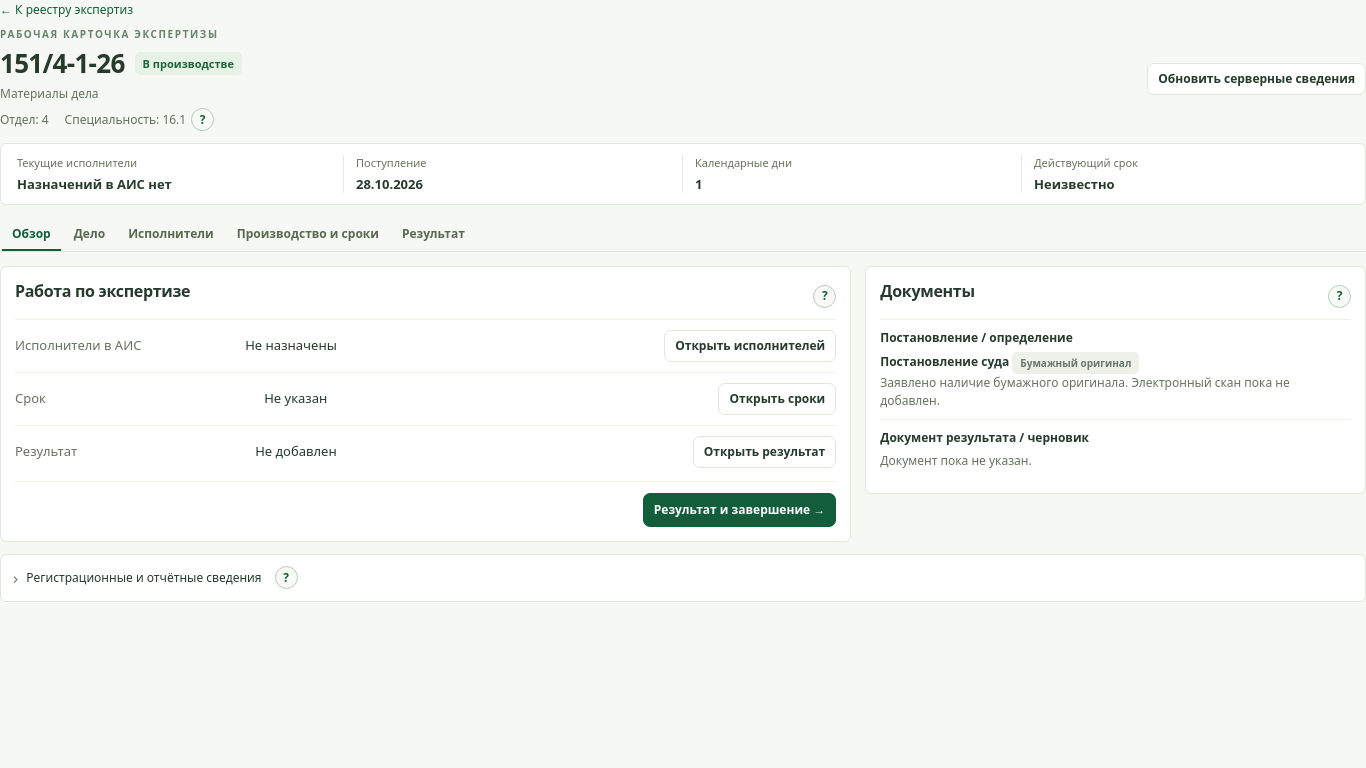
Test: keeps factual fields visible and moves their reference explanation behind a question
Click the tab "Дело".
click(89, 235)  # box [64,219,115,251]
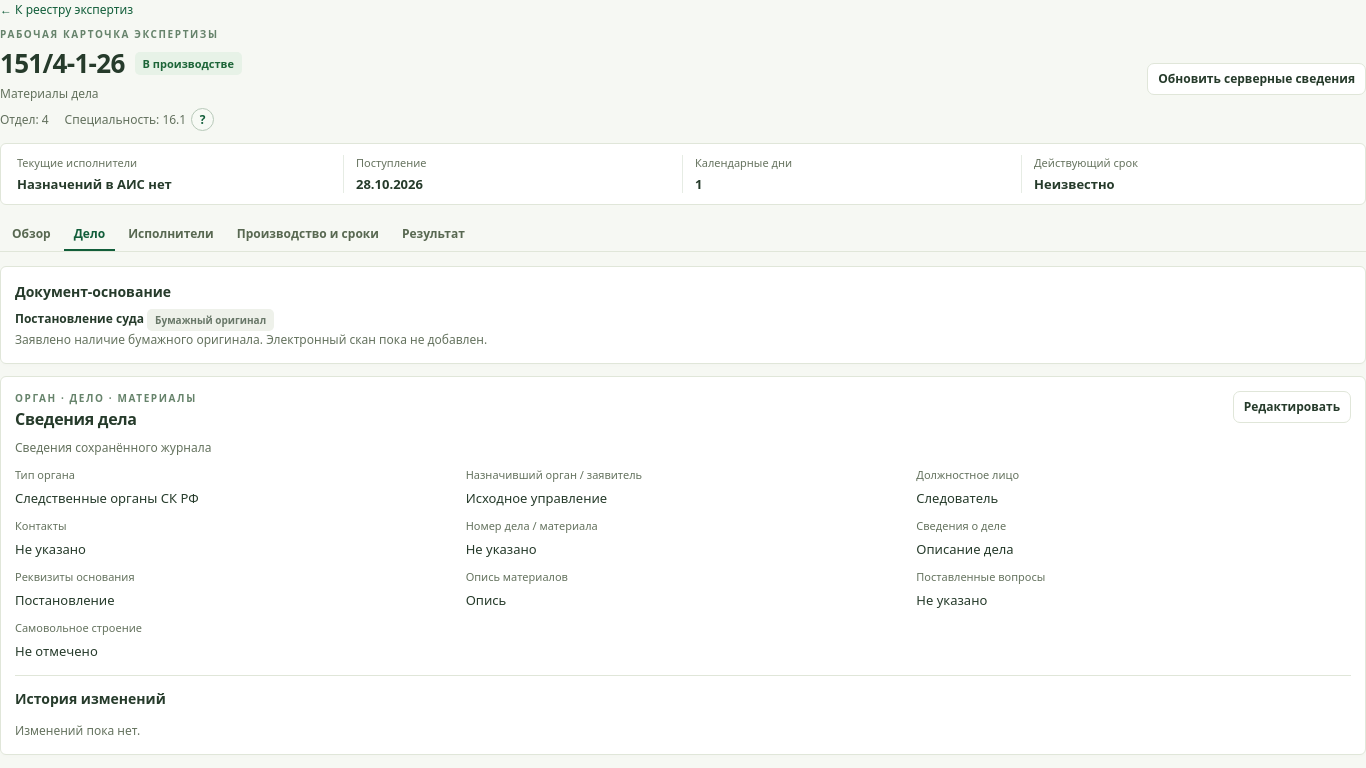
Click the button "Редактировать".
click(1292, 407)  # box [1233,391,1351,423]
(page scrolled)
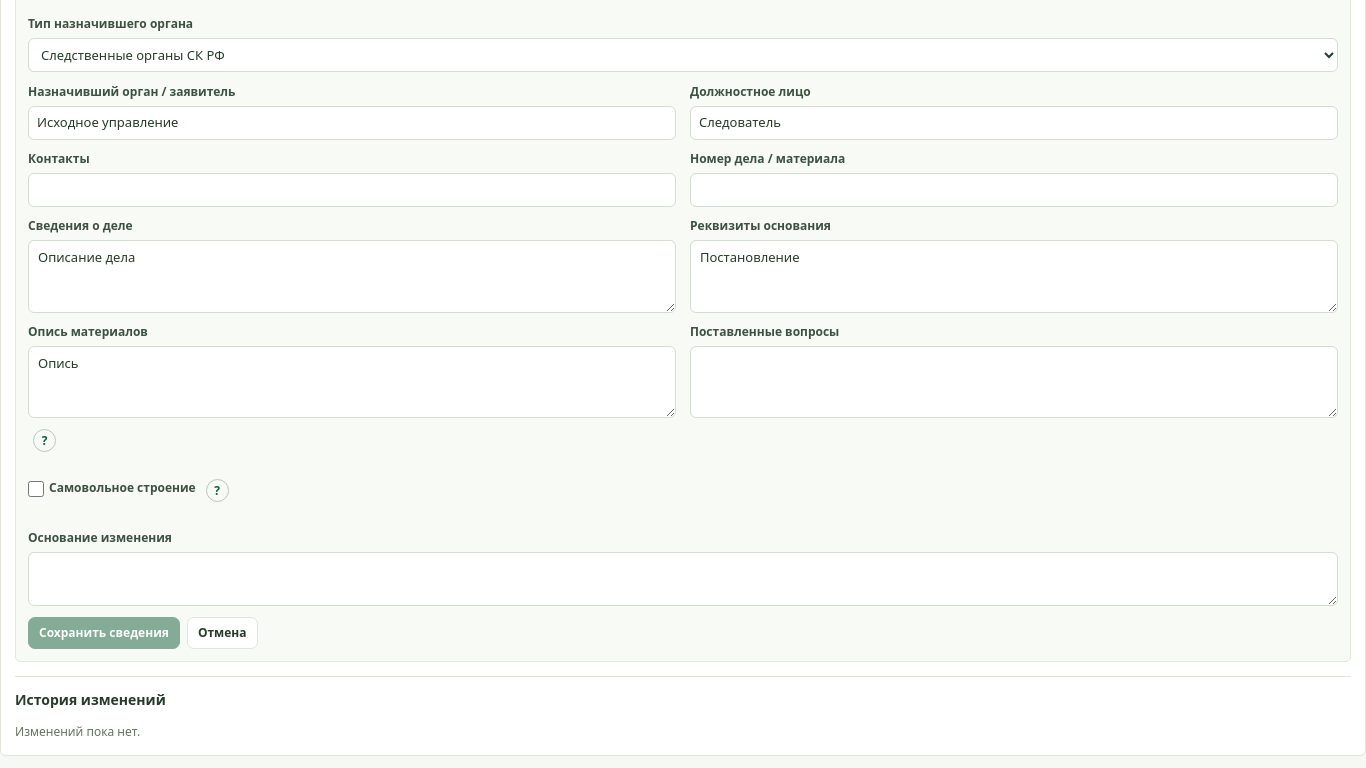
Type "Сверено с делом" into the text box named "case_reason".
click(683, 579); type("Сверено с делом")  # box [28,552,1338,606]
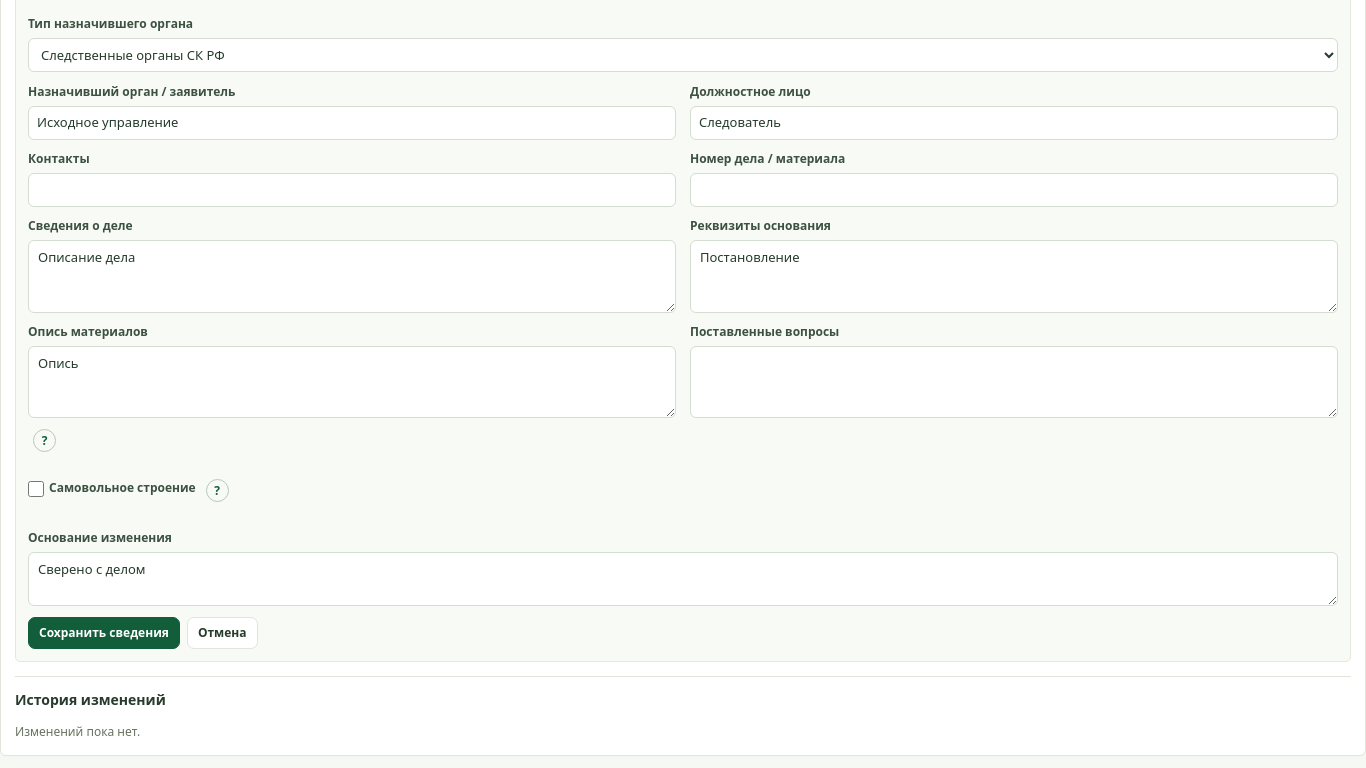
Expected: the text "Текст вопросов не заменяет числа Q/R/S/T." is not shown
Expected: the field named "case_authority_name" holds "Исходное управление", [28,106,676,140]
Focus the button named "Пояснение: Сведения дела" at (44, 441), box [33,429,56,452]
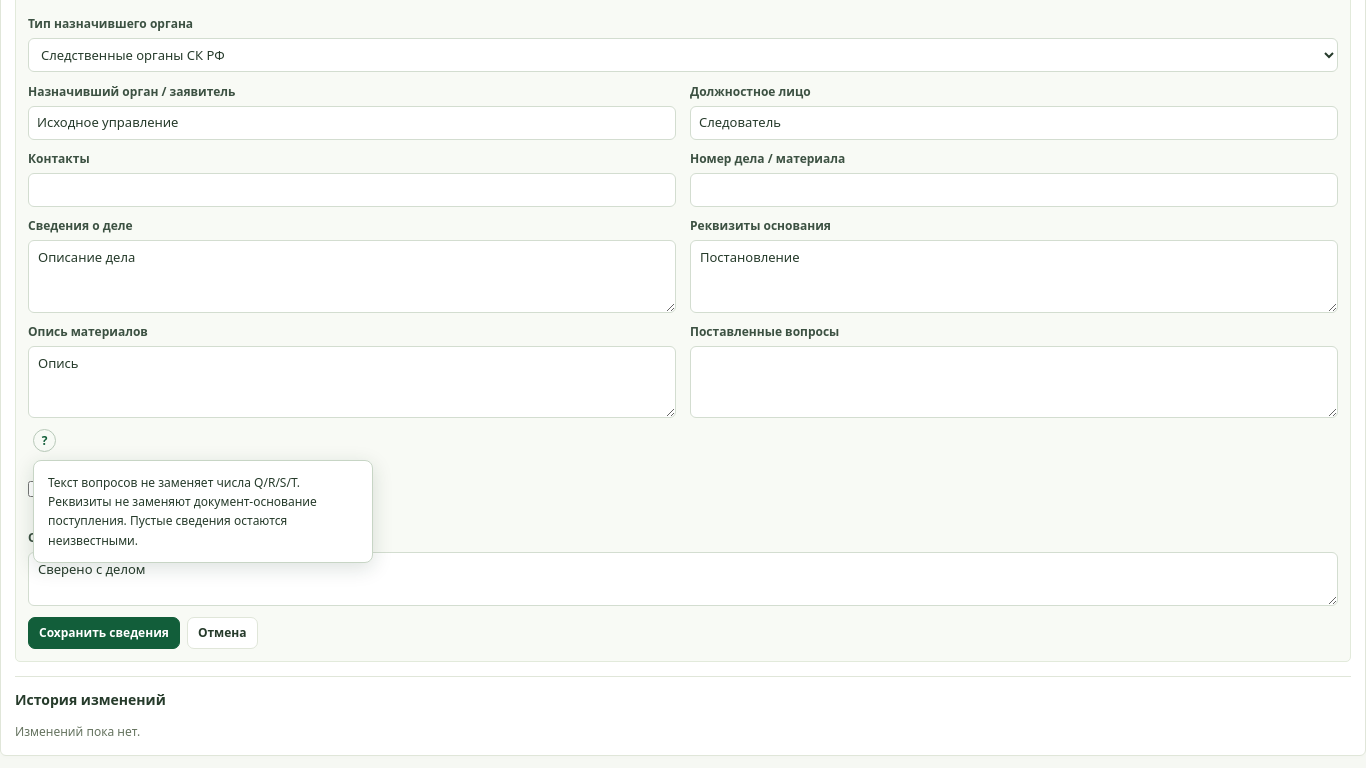
Expected: the tooltip shows "Текст вопросов не заменяет числа Q/R/S/T.", [48,474,317,549]
